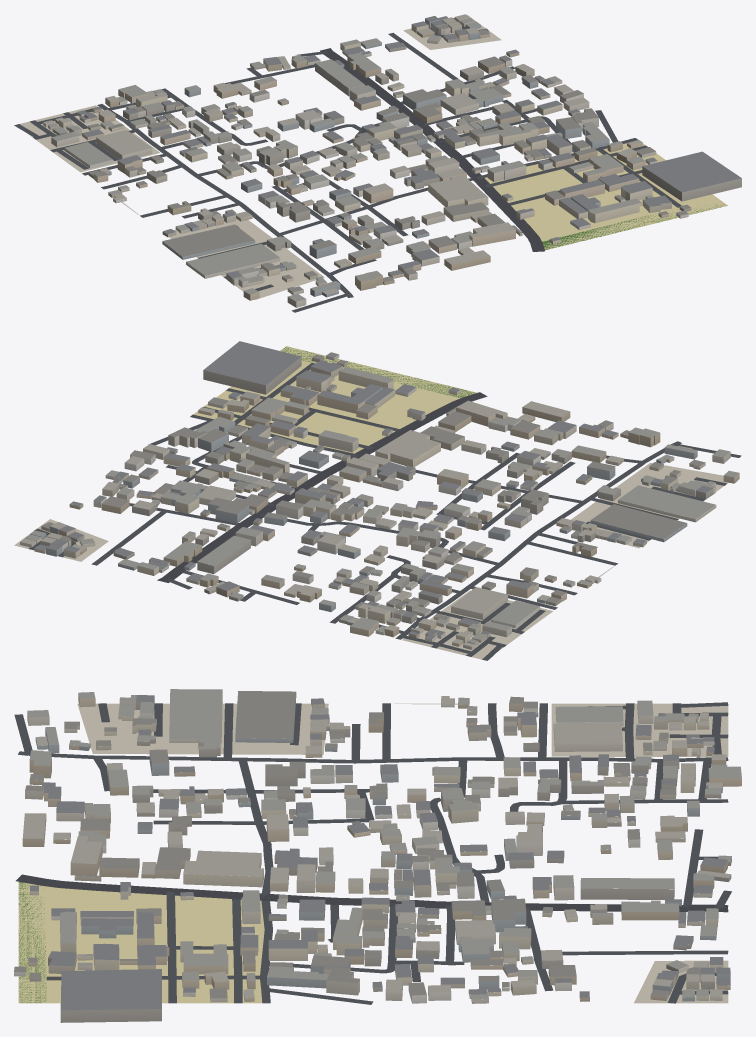
3 renders of one model, top to bottom at view 1: azimuth 30°, elevation 25°; view 2: azimuth 150°, elevation 25°; view 3: azimuth 270°, elevation 25°, orthographic. The views are drawn at different scales.
Parts seen in each view (by area): view 1: buildings_roofs, buildings_walls, roads, landuse; view 2: buildings_roofs, buildings_walls, roads, landuse; view 3: buildings_roofs, buildings_walls, roads, landuse.
Part boxes in pixels (x1,y1,x2,y2): buildings_roofs: [43, 14, 741, 301]; buildings_walls: [43, 17, 741, 307]; roads: [14, 18, 681, 312]; landuse: [20, 15, 727, 299]; buildings_roofs: [20, 341, 739, 646]; buildings_walls: [20, 355, 739, 649]; roads: [28, 363, 741, 660]; landuse: [14, 346, 728, 660]; buildings_roofs: [14, 689, 741, 1010]; buildings_walls: [14, 693, 741, 1022]; roads: [14, 702, 731, 1004]; landuse: [18, 703, 728, 1003].
Bounding box in the file's own units: 550 × 9.59 × 513.
